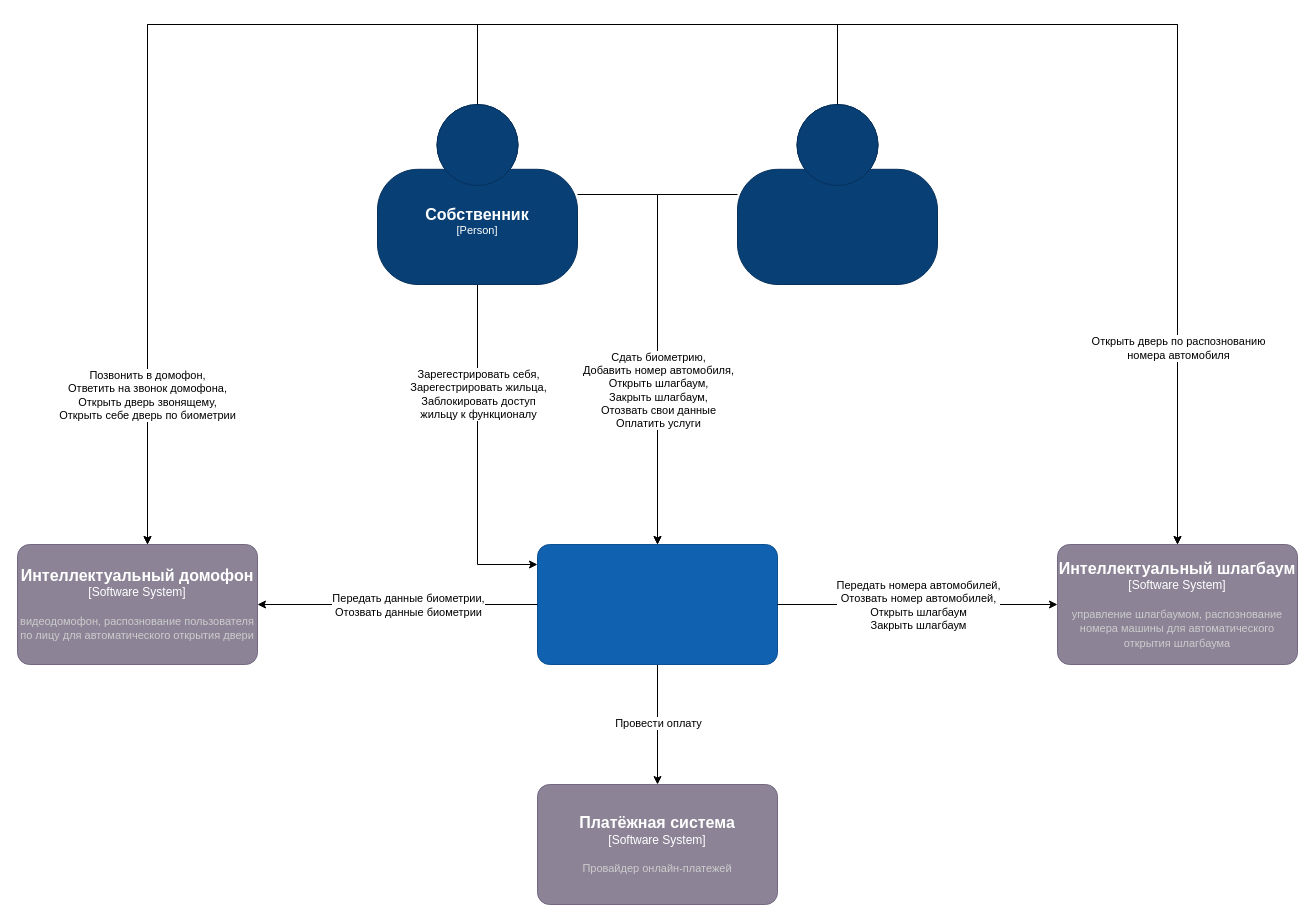
Image size: 1315x922. Some labels were removed from this diagram. Here are the shapes that lost their labels. From the top down, the centre of each, then its label:
At [837,194]: "Жилец [Person]".
At [657,604]: "Умный дом [Software System]".
